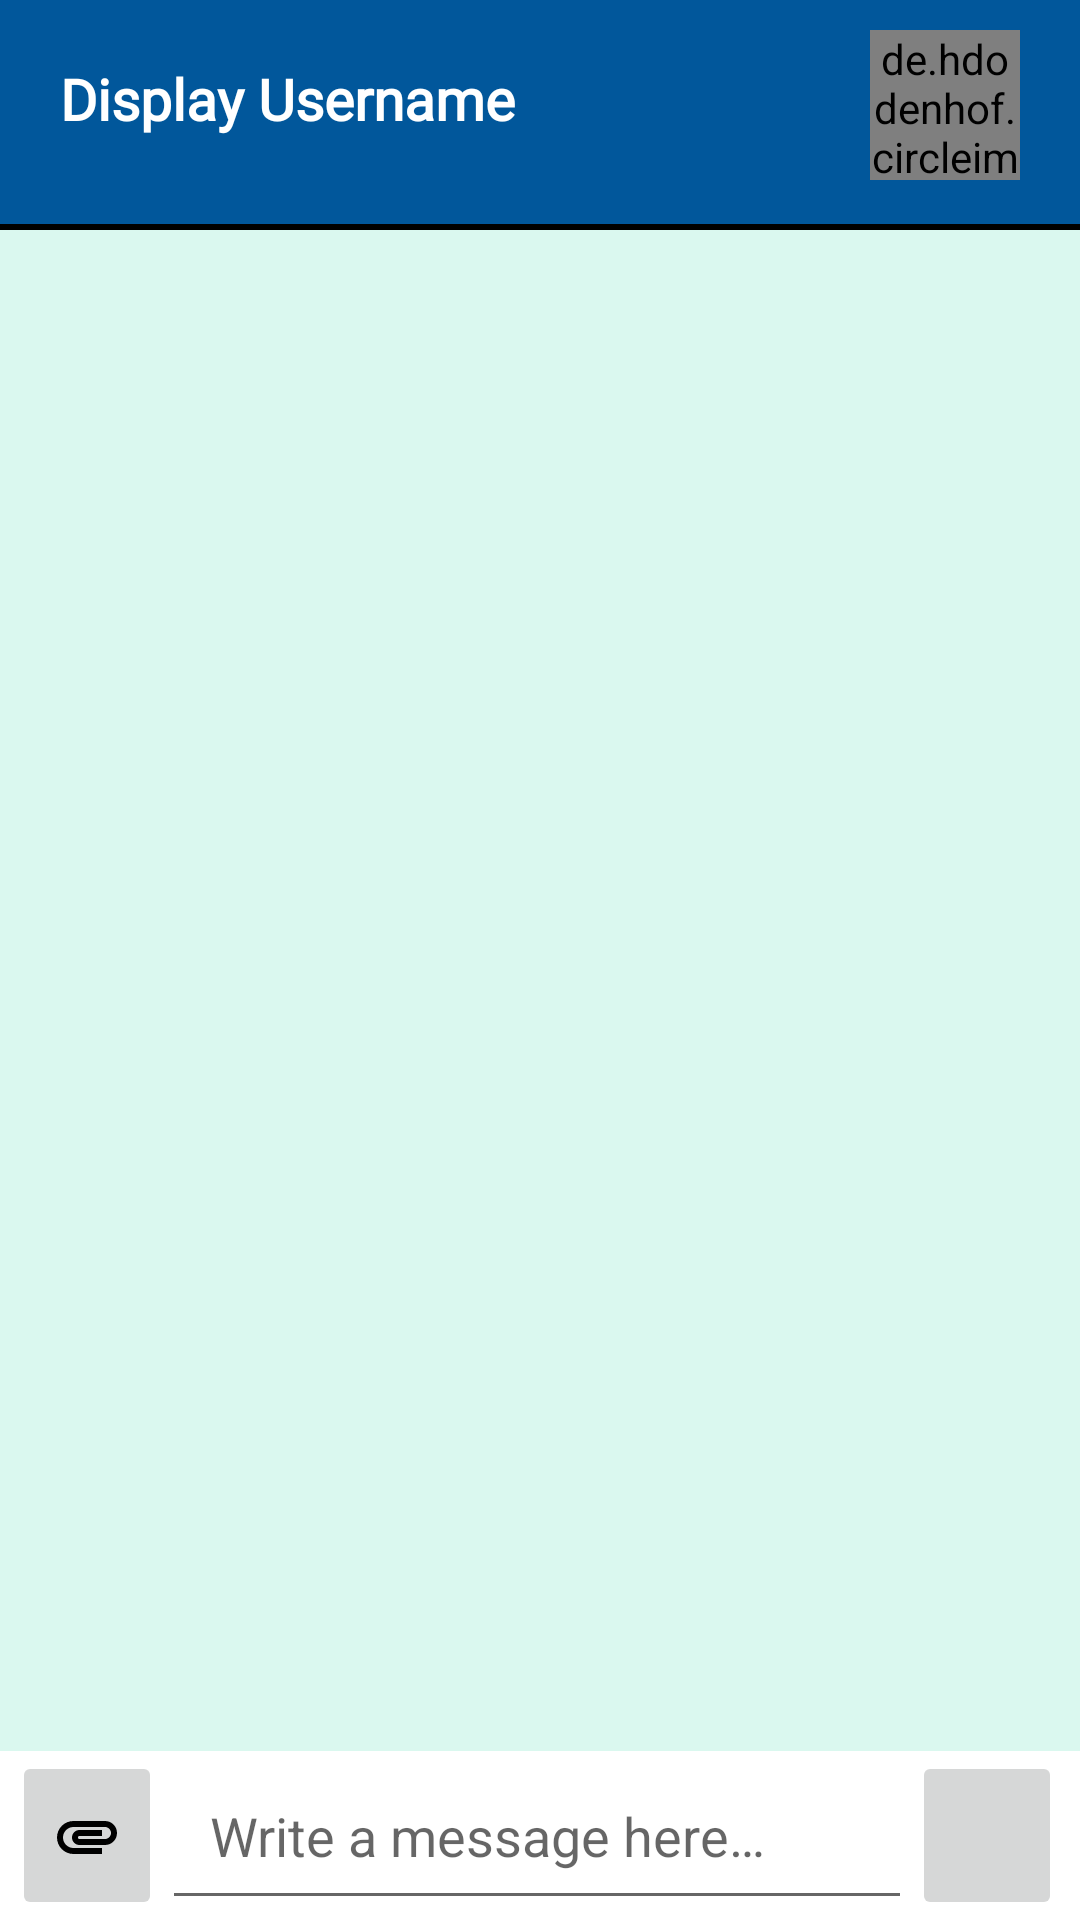

Where to tap for icons on this 1080px x 1920px app screen, as (x=x, y=y):
Upload Messages: (x=87, y=1835)
